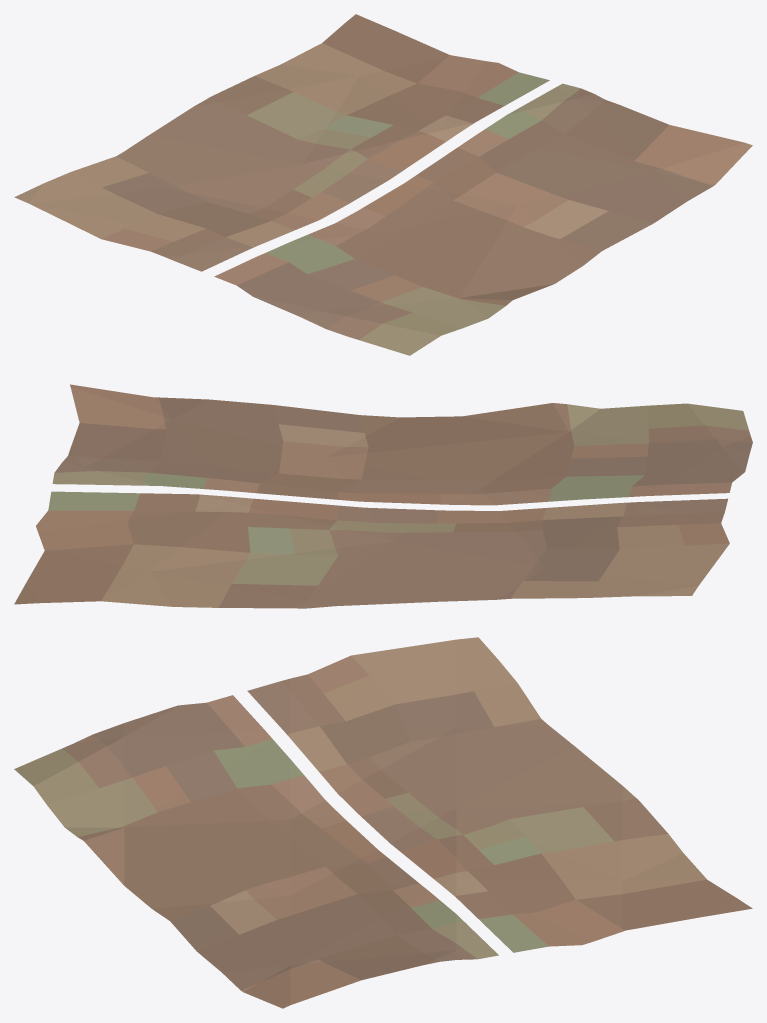
Rendered from farm_14_2_soil.glb.
3 views of the same model, one above another, from view 1: azimuth 30°, elevation 25°; view 2: azimuth 150°, elevation 25°; view 3: azimuth 270°, elevation 25° (orthographic). The views are drawn at different scales.
Visible parts, largest first — view 1: geometry_0; view 2: geometry_0; view 3: geometry_0.
Part boxes in pixels (bbox=[...]): geometry_0: bbox=[14, 14, 752, 355]; geometry_0: bbox=[14, 384, 752, 608]; geometry_0: bbox=[14, 637, 752, 1008].
Size of the model in its own units: 378 by 31.37 by 356.
